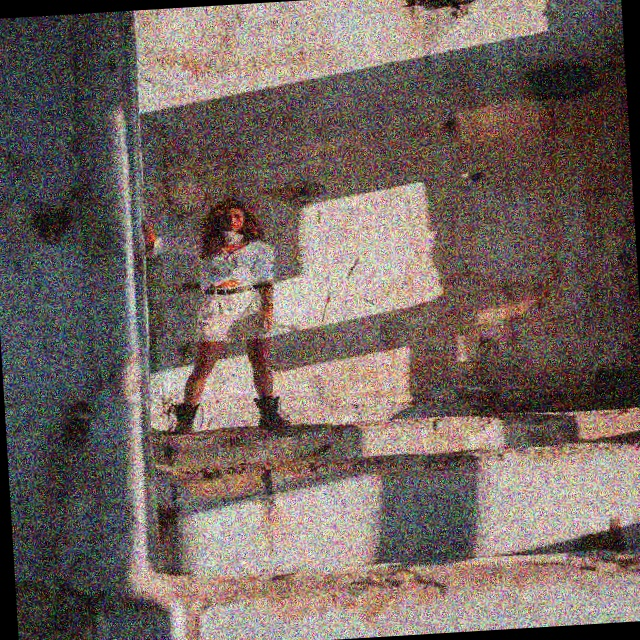Crop_Top: (199, 253, 260, 290)
Shorts: (175, 286, 280, 406)
low_neckline: (195, 230, 258, 282)
